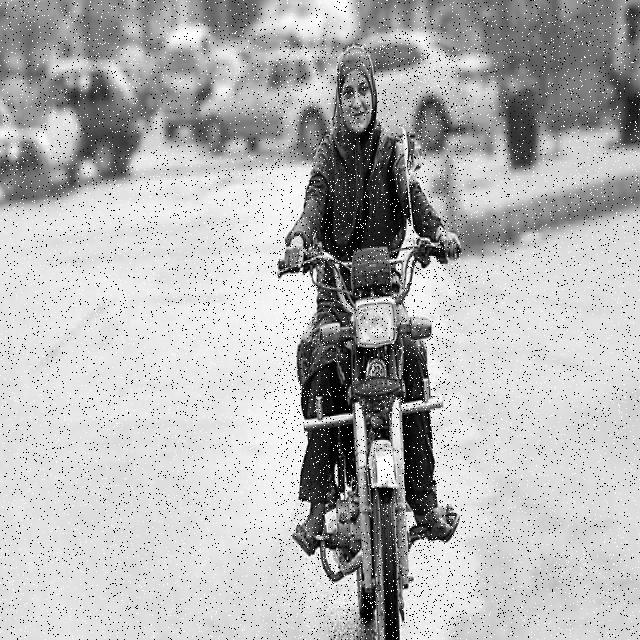Motorbike: (276, 47, 462, 640)
